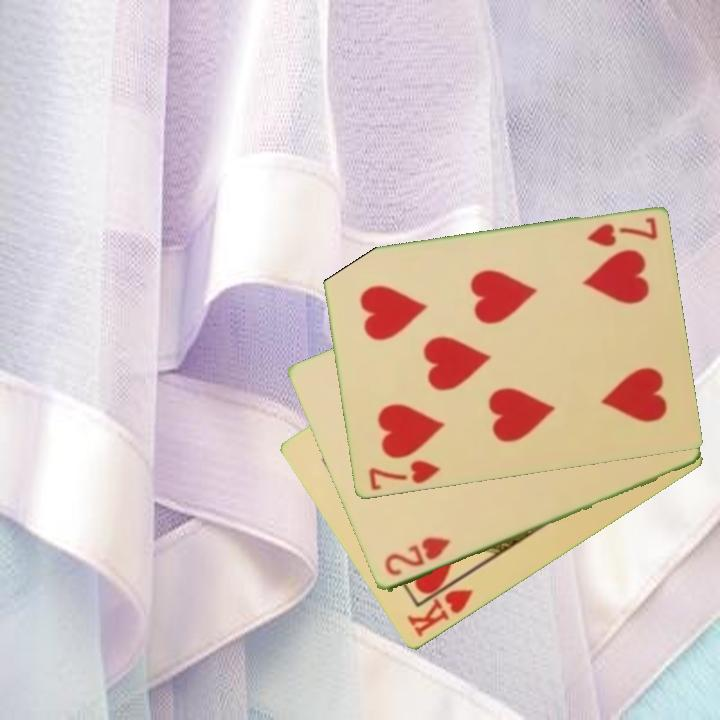2h: (381, 533, 454, 580)
7h: (364, 457, 442, 494), (583, 214, 660, 250)
Kh: (403, 572, 476, 641)
